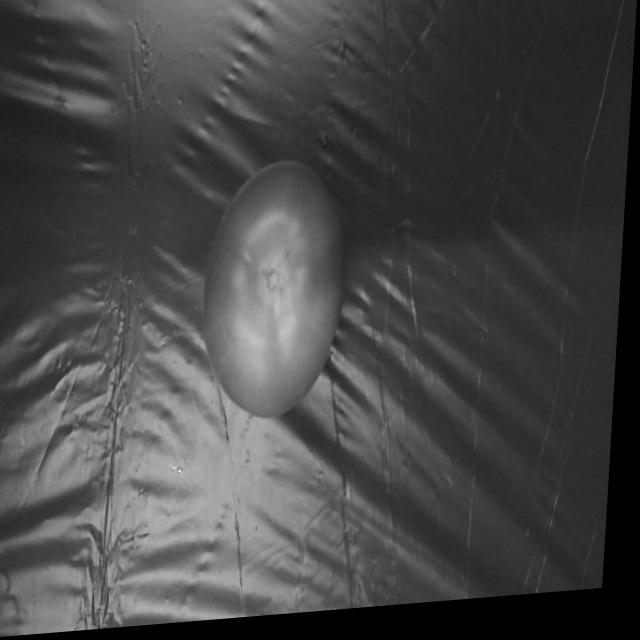sari: (184, 151, 368, 431)
